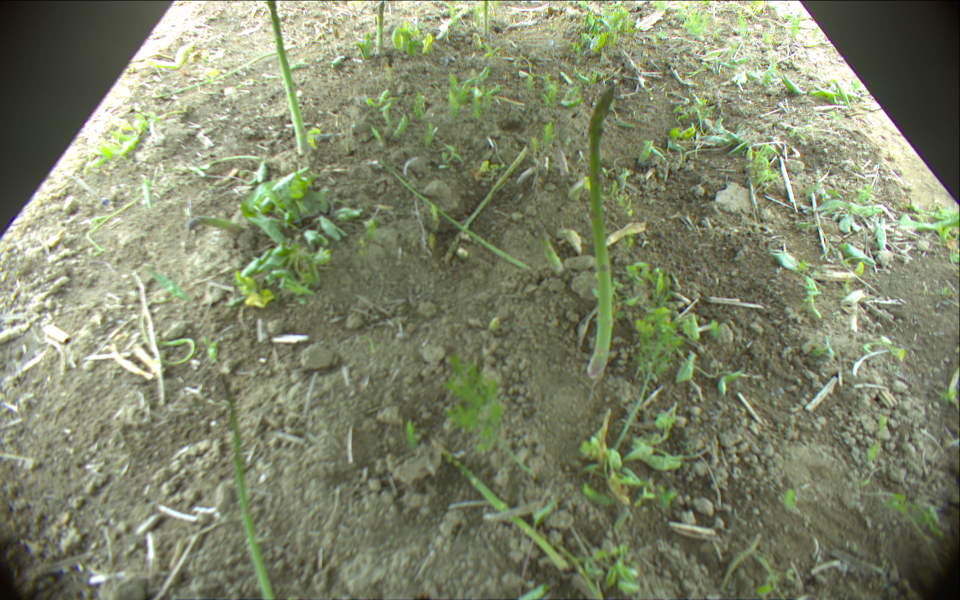aspa: (426, 435, 578, 571), (379, 155, 533, 272), (220, 374, 277, 600), (446, 148, 532, 263), (587, 84, 616, 378), (266, 1, 314, 156), (373, 1, 391, 55), (483, 1, 490, 37)
